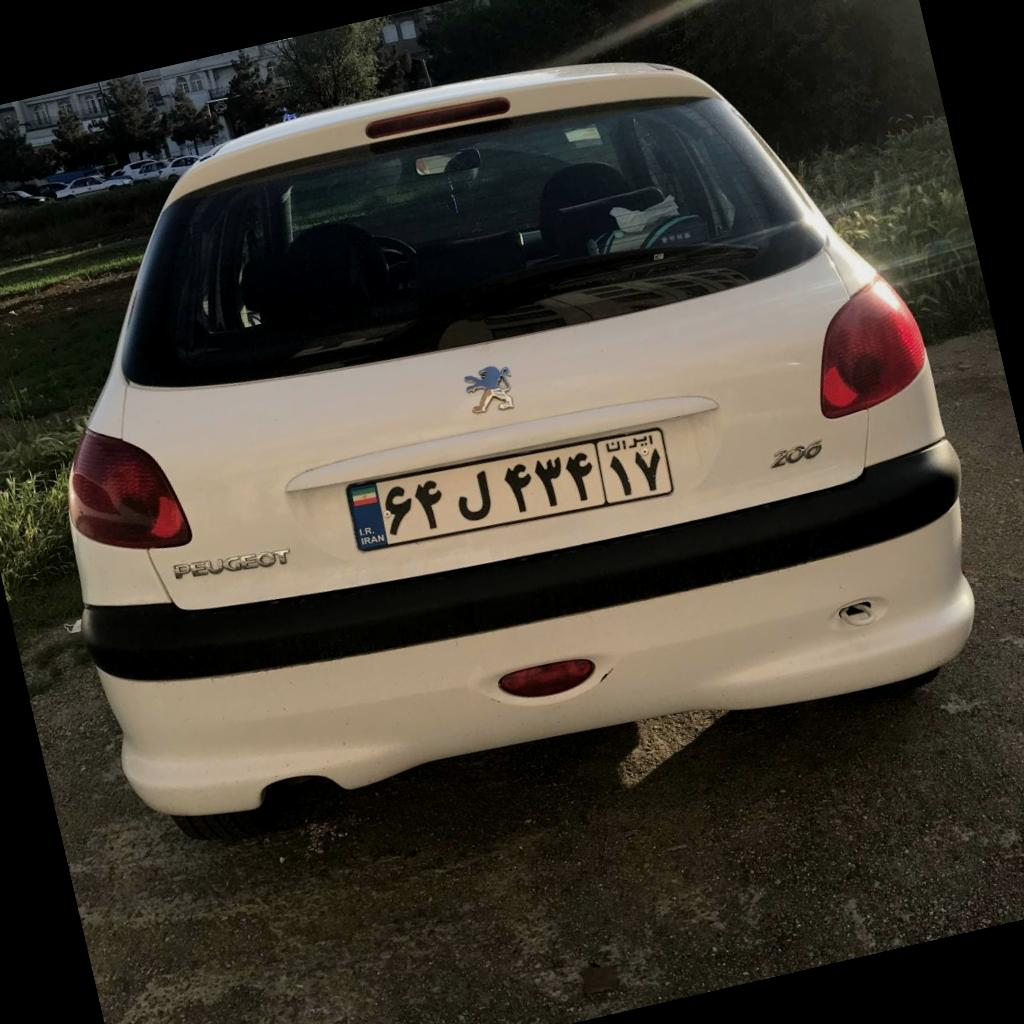Plates: (347, 428, 674, 551)
